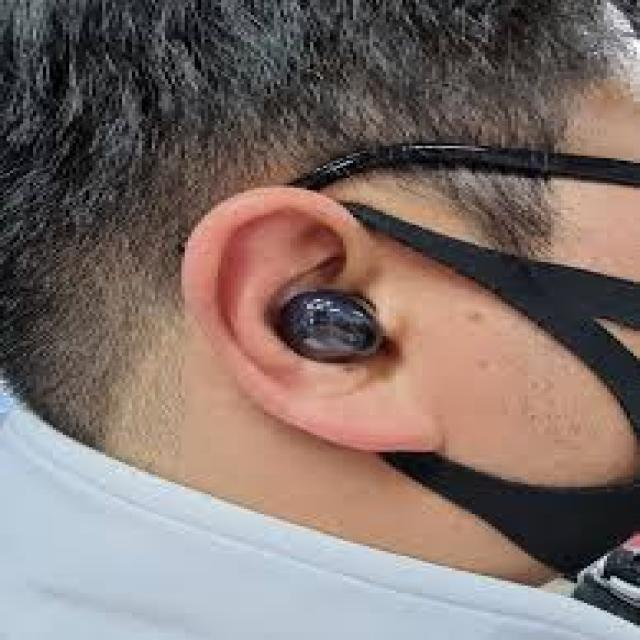earphone: (243, 245, 400, 398)
